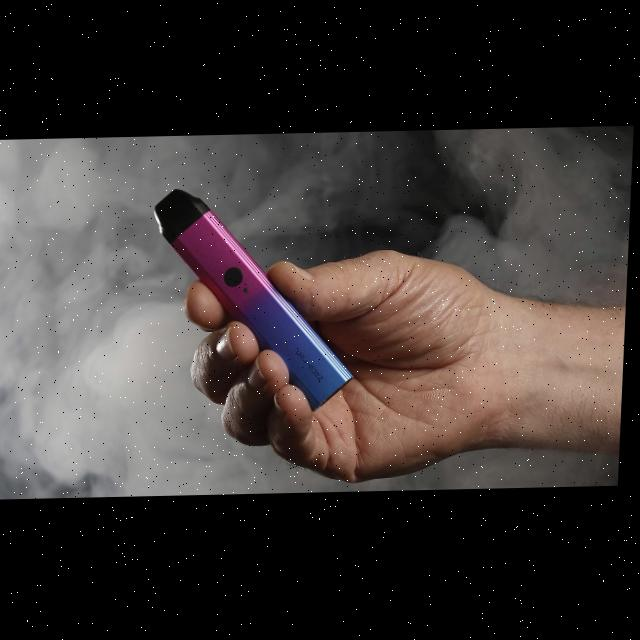vape: (148, 187, 363, 416)
